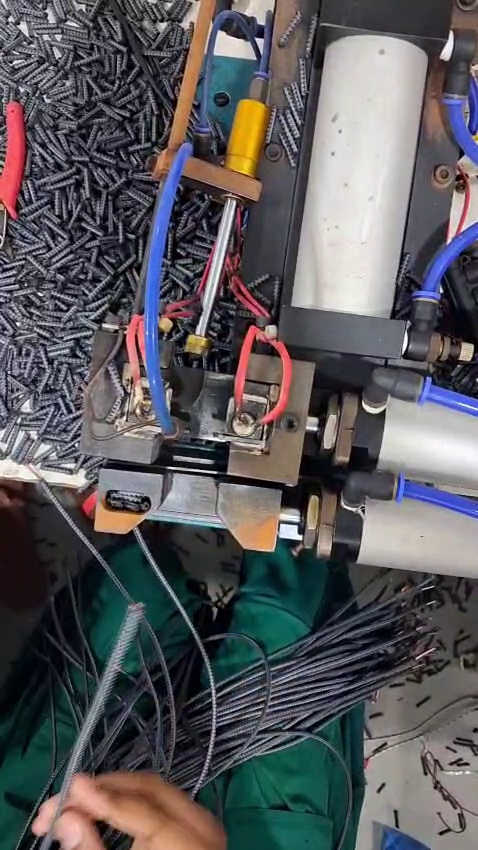intact_wire: (85, 582, 170, 716)
machine: (73, 313, 340, 507)
peeled_wire: (9, 452, 67, 502)
